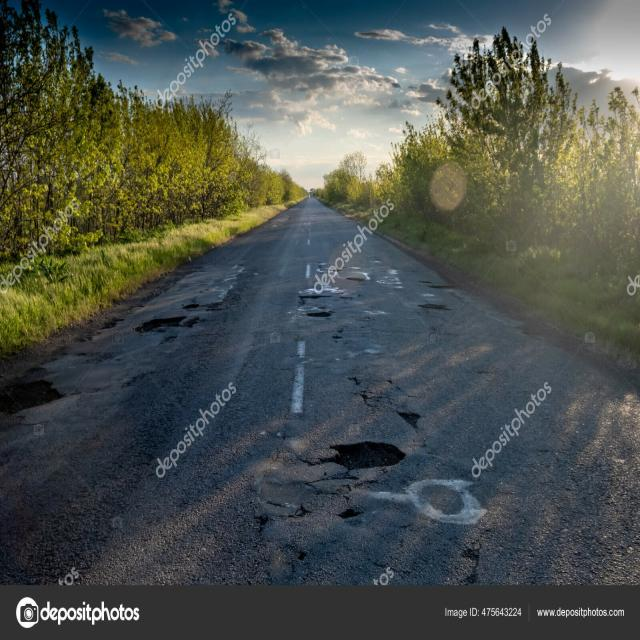Pothole: (282, 257, 499, 537), (1, 286, 240, 452)
